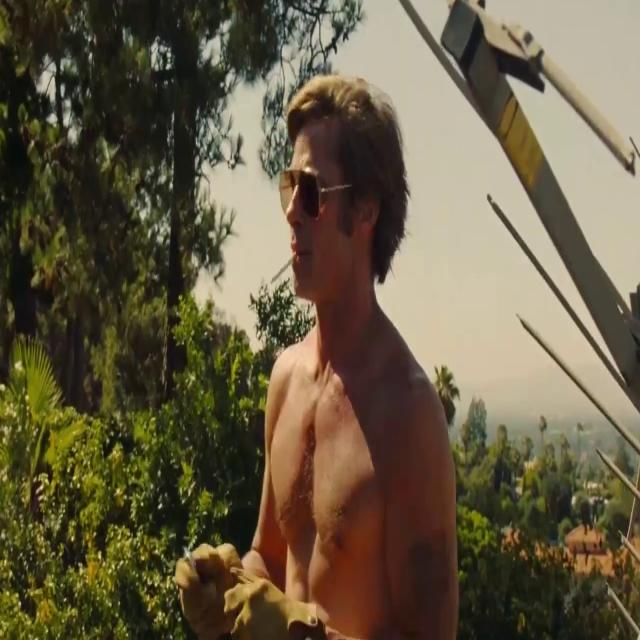Smooking: (265, 249, 299, 291)
